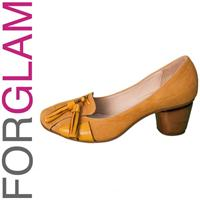shoe: (40, 54, 198, 142)
